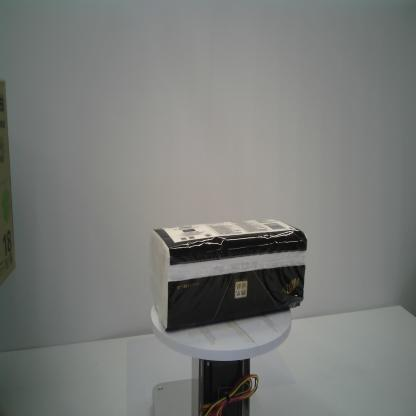Tissue: (146, 217, 308, 333)
